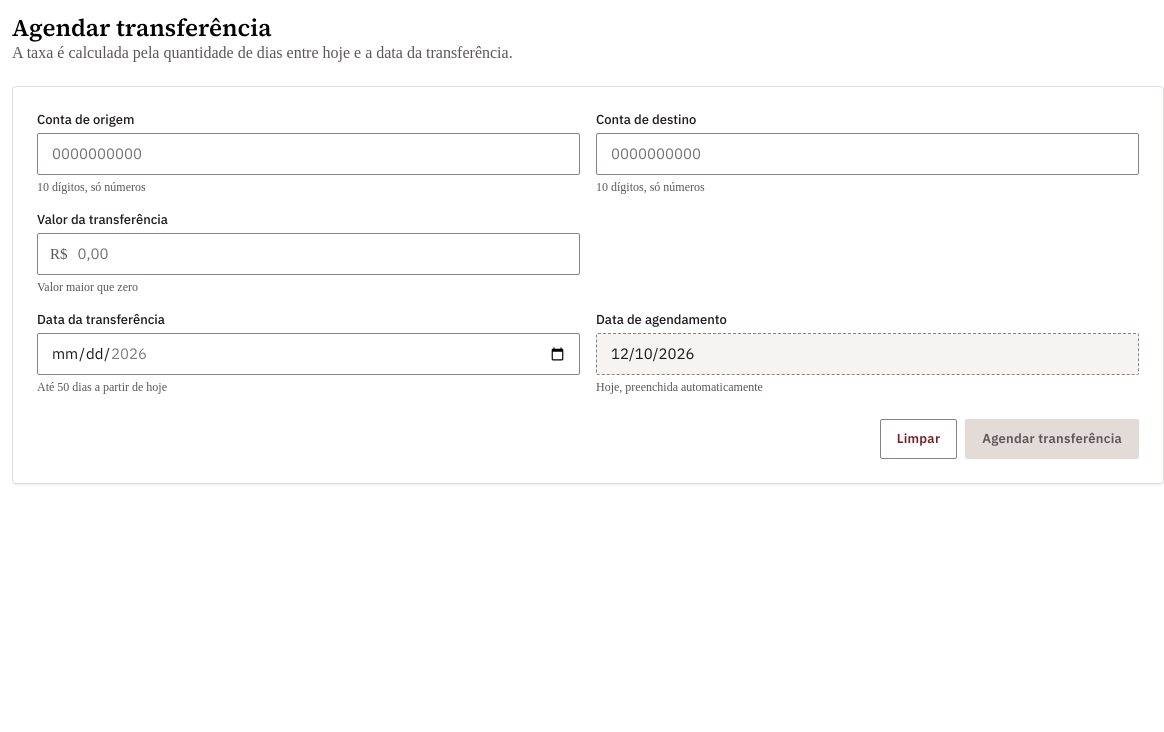
Test: AgendarView › mostra o resumo da taxa e libera o envio
The width and height of the screenshot is (1164, 732).
Step 1. Type "1234567890" into the field labelled "Conta de origem 10 dígitos, só números" → (308, 154), box x1=50 y1=142 x2=567 y2=166
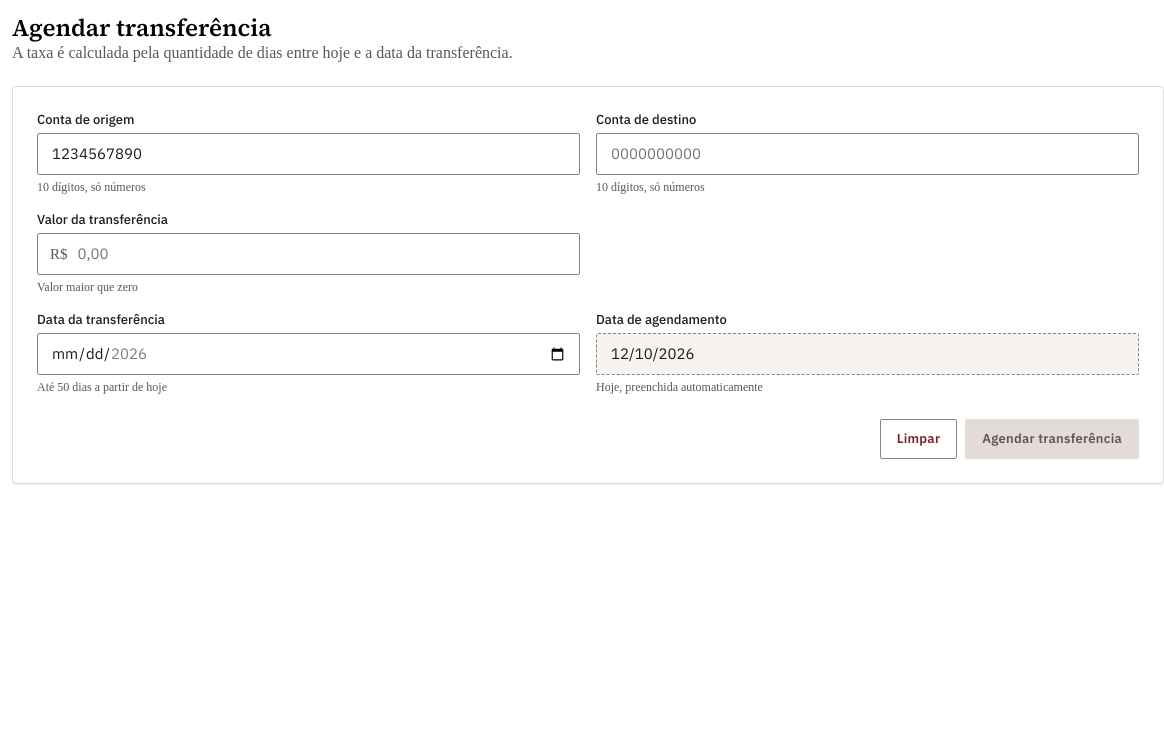
Step 2. Type "0987654321" into the field labelled "Conta de destino 10 dígitos, só números" → (868, 154), box x1=609 y1=142 x2=1126 y2=166
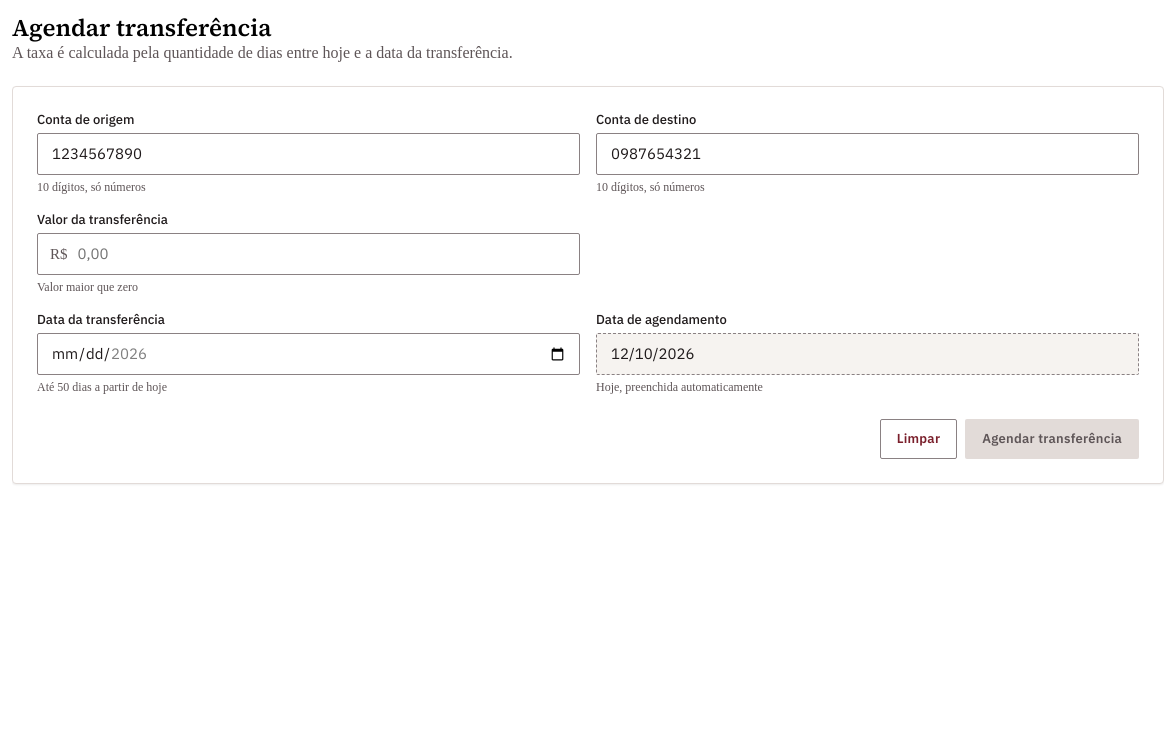
Step 3. Type "1000" into the field labelled "Valor da transferência R$ Valor maior que zero" → (321, 254), box x1=76 y1=242 x2=567 y2=266
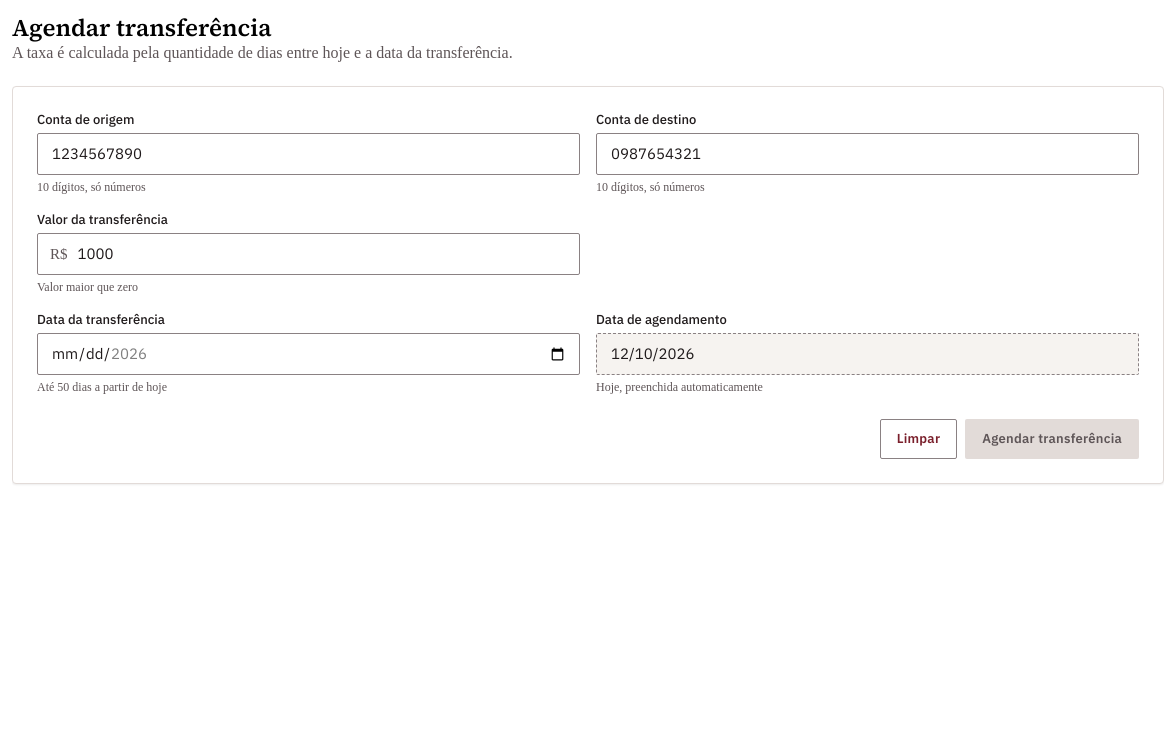
Step 4. Type "2026-10-12" into the date field labelled "Data da transferência Até 50 dias a partir de hoje" → (308, 354), box x1=50 y1=342 x2=567 y2=366
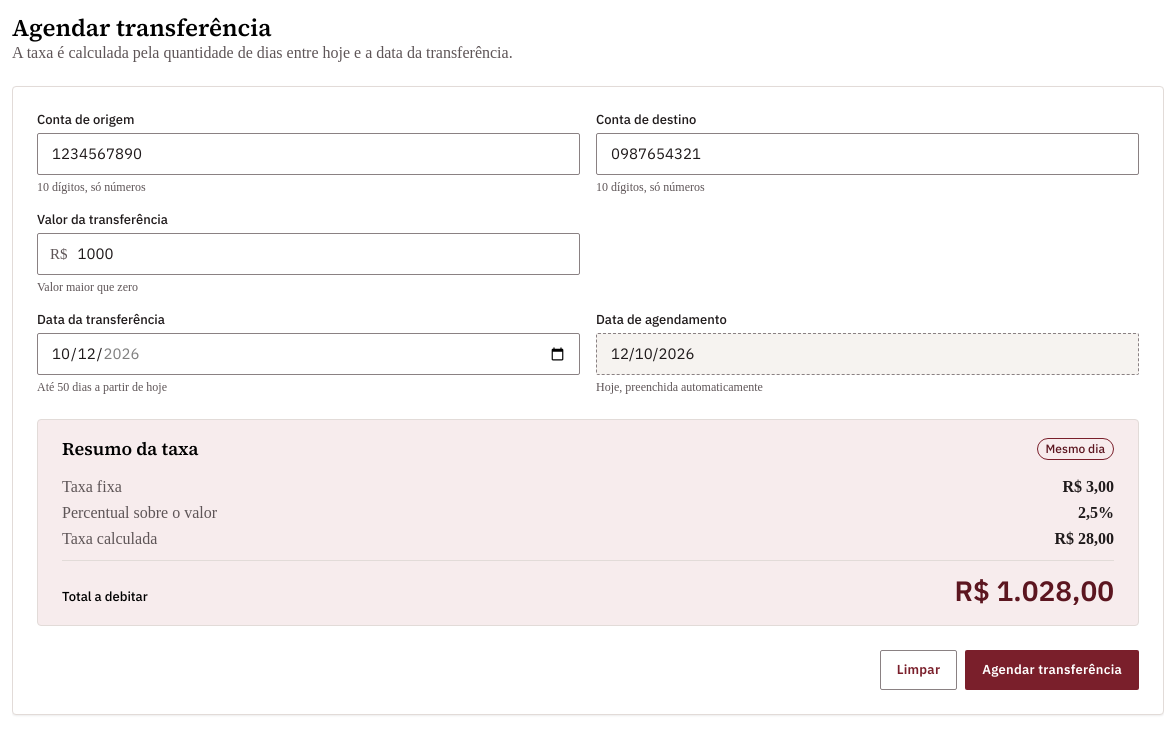
Expected: the text with class "at-fee__badge" reads "Mesmo dia", x1=1046 y1=441 x2=1105 y2=456
Expected: the element with class "at-fee__total" reads "Total a debitar R$ 1.028,00", x1=954 y1=572 x2=1114 y2=609
Expected: the submit button is enabled, x1=965 y1=650 x2=1139 y2=690
